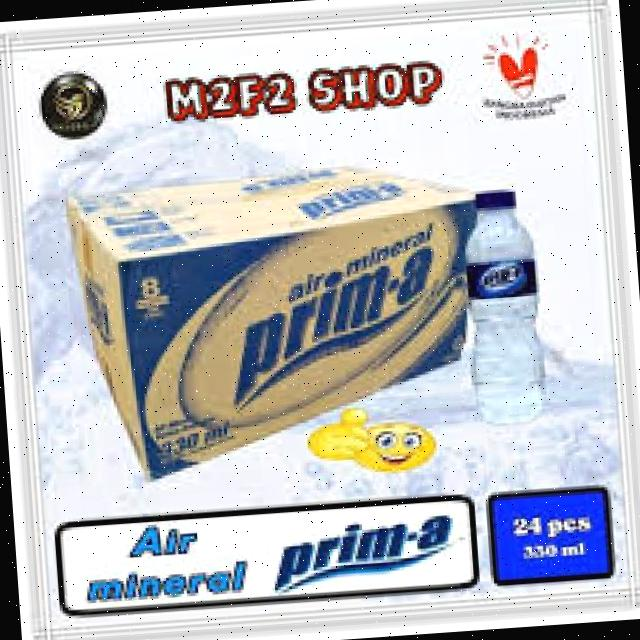bottle: (452, 180, 562, 432)
cap: (468, 185, 521, 218)
label: (461, 256, 546, 306)
